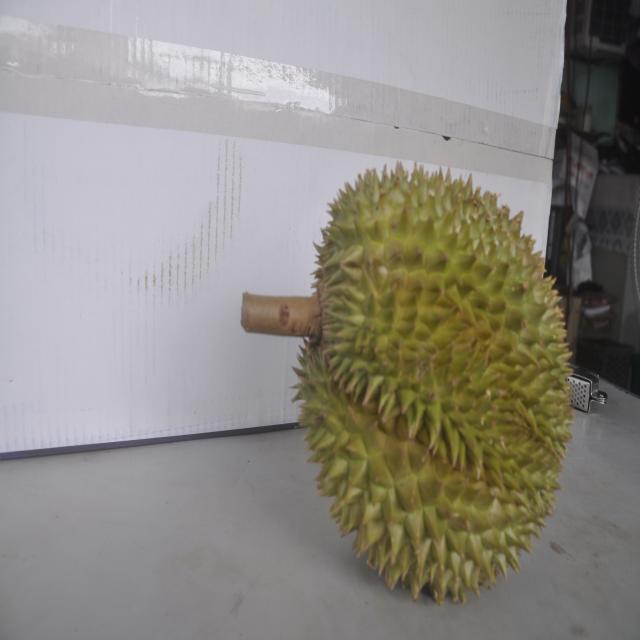mature: (296, 157, 577, 598)
